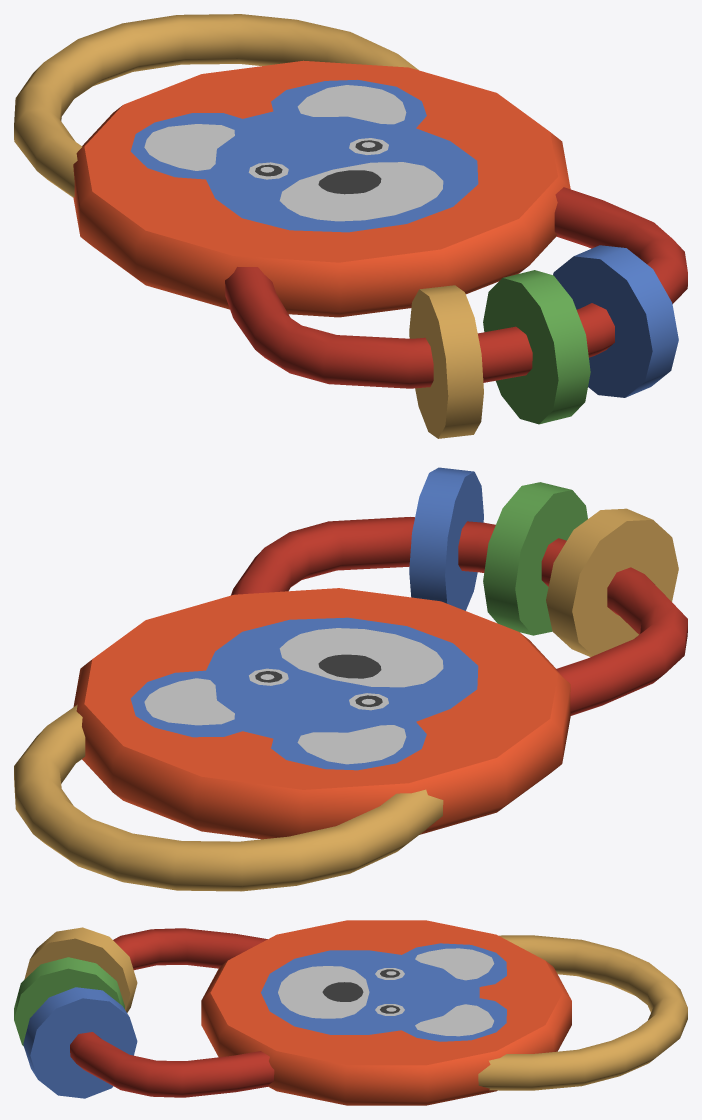
File: BearToy_01.fbx
3 views of the same model, one above another, from view 1: azimuth 30°, elevation 25°; view 2: azimuth 150°, elevation 25°; view 3: azimuth 270°, elevation 25° (orthographic). The views are drawn at different scales.
Parts seen in each view (by area): view 1: BearToy_01; view 2: BearToy_01; view 3: BearToy_01.
Boxes of the visible parts, bbox=[...] form: BearToy_01: bbox=[14, 14, 687, 438]; BearToy_01: bbox=[14, 467, 687, 891]; BearToy_01: bbox=[14, 920, 687, 1105].
Bounding box in the file's own units: 0.132 × 0.0406 × 0.2461.
